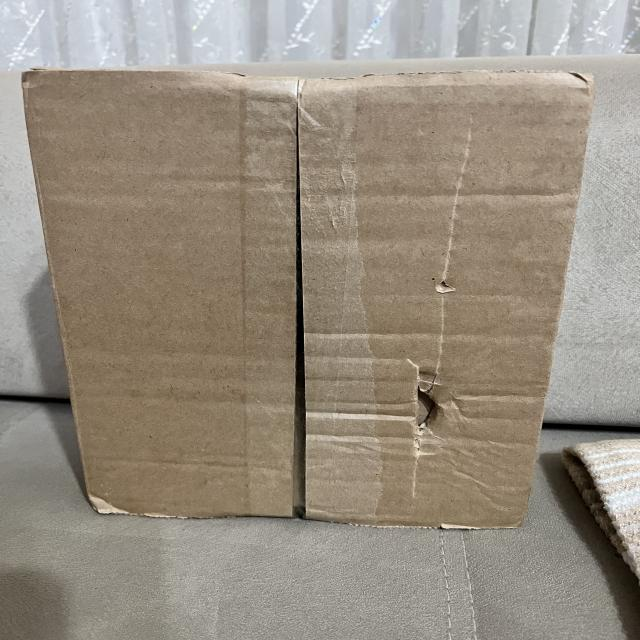damaged: (15, 65, 604, 538), (394, 354, 464, 454), (82, 484, 138, 526), (424, 272, 466, 298)
